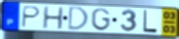3: (120, 9, 138, 33)
D: (67, 6, 90, 31)
G: (90, 8, 112, 32)
H: (42, 6, 65, 31)
L: (142, 9, 159, 34)
P: (20, 5, 42, 28)
